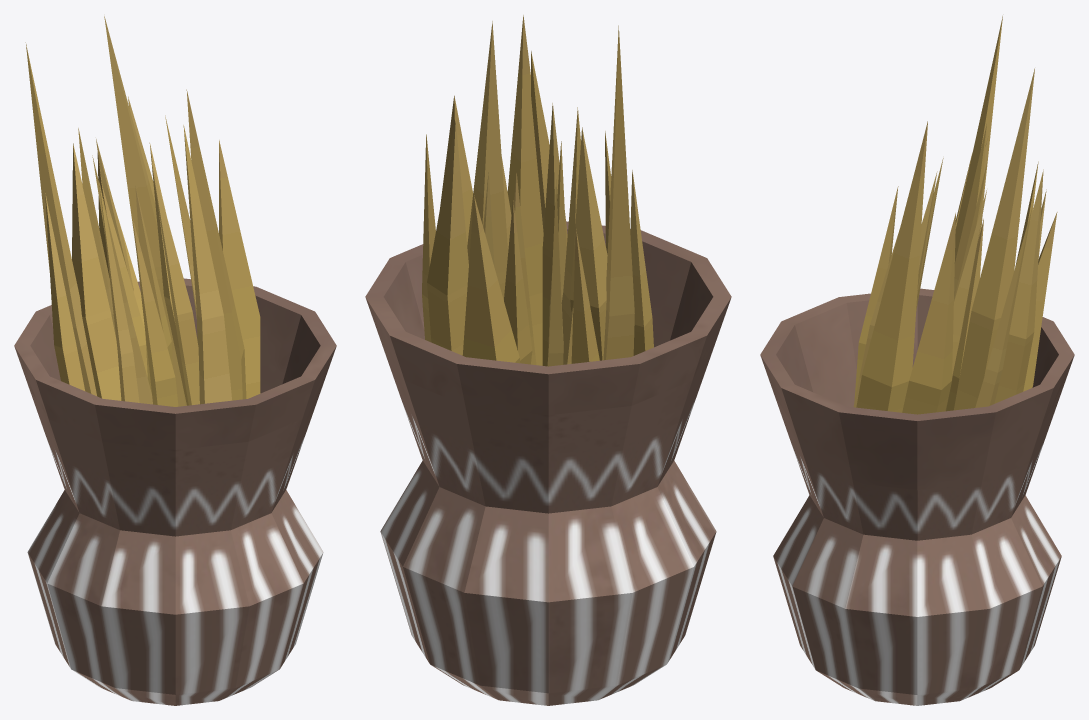
File: SacrificialQuest1.gltf
3 views of the same model, side by side, from view 1: azimuth 30°, elevation 25°; view 2: azimuth 150°, elevation 25°; view 3: azimuth 270°, elevation 25° (orthographic). The views are drawn at different scales.
Visible parts, largest first — view 1: Pot with grain; view 2: Pot with grain; view 3: Pot with grain.
Boxes of the visible parts, <box> form: Pot with grain: <box>14,16,336,705</box>; Pot with grain: <box>365,15,731,705</box>; Pot with grain: <box>760,16,1074,705</box>.
Bounding box in the file's own units: 0.4485 × 0.9528 × 0.4485.
Materials: 2 (2 with a texture image).
